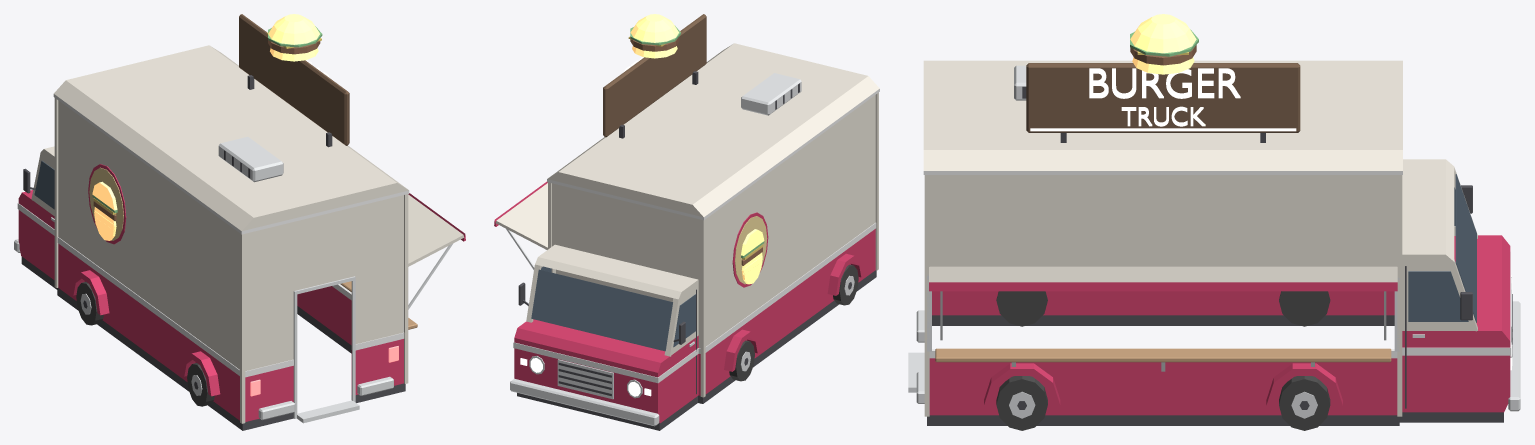
Rendered from food_truck.glb.
3 renders of one model, left to right at view 1: azimuth 30°, elevation 25°; view 2: azimuth 150°, elevation 25°; view 3: azimuth 270°, elevation 25°, orthographic. The views are drawn at different scales.
Visible parts, largest first — view 1: truck_middle_crema, truck_rear_crema, truck_middle_pintura_roja, truck_sign_tablero_letrero, truck_rear_pintura_roja, truck_front_pintura_roja, truck_rear_cromo, truck_middle_blanco, truck_middle_cromo, truck_middle_oscuro, truck_front_crema, truck_sign_pan (+8 smaller); view 2: truck_middle_crema, truck_front_crema, truck_front_pintura_roja, truck_front_vidrio, truck_middle_pintura_roja, truck_sign_tablero_letrero, truck_front_cromo, truck_front_oscuro, truck_front_blanco, truck_middle_blanco, truck_middle_cromo, truck_sign_pan (+7 smaller); view 3: truck_middle_crema, truck_middle_pintura_roja, truck_sign_tablero_letrero, truck_front_pintura_roja, truck_front_crema, truck_middle_oscuro, truck_middle_madera, truck_front_vidrio, truck_sign_luz_letrero, truck_front_llanta, truck_rear_llanta, truck_sign_pan (+9 smaller).
Boxes of the visible parts, bbox=[...] form: truck_middle_crema: bbox=[55, 46, 464, 369]; truck_rear_crema: bbox=[240, 182, 408, 423]; truck_middle_pintura_roja: bbox=[58, 193, 465, 420]; truck_sign_tablero_letrero: bbox=[239, 14, 349, 145]; truck_rear_pintura_roja: bbox=[181, 339, 403, 421]; truck_front_pintura_roja: bbox=[18, 164, 126, 315]; truck_rear_cromo: bbox=[191, 276, 393, 423]; truck_middle_blanco: bbox=[55, 95, 351, 375]; truck_middle_cromo: bbox=[218, 136, 453, 332]; truck_middle_oscuro: bbox=[58, 150, 405, 430]; truck_front_crema: bbox=[31, 45, 220, 287]; truck_sign_pan: bbox=[268, 14, 319, 61]; truck_middle_crema: bbox=[496, 44, 878, 346]; truck_front_crema: bbox=[526, 171, 705, 397]; truck_front_pintura_roja: bbox=[514, 212, 768, 423]; truck_front_vidrio: bbox=[531, 266, 695, 351]; truck_middle_pintura_roja: bbox=[494, 181, 875, 393]; truck_sign_tablero_letrero: bbox=[603, 14, 706, 137]; truck_front_cromo: bbox=[510, 341, 750, 426]; truck_front_oscuro: bbox=[517, 282, 748, 430]; truck_front_blanco: bbox=[513, 179, 704, 383]; truck_middle_blanco: bbox=[705, 89, 878, 352]; truck_middle_cromo: bbox=[506, 73, 801, 269]; truck_sign_pan: bbox=[630, 14, 678, 58]; truck_middle_crema: bbox=[927, 60, 1399, 282]; truck_middle_pintura_roja: bbox=[929, 282, 1397, 415]; truck_sign_tablero_letrero: bbox=[1026, 63, 1300, 132]; truck_front_pintura_roja: bbox=[1266, 235, 1510, 415]; truck_front_crema: bbox=[1396, 60, 1477, 416]; truck_middle_oscuro: bbox=[930, 86, 1396, 425]; truck_middle_madera: bbox=[935, 348, 1391, 362]; truck_front_vidrio: bbox=[1408, 174, 1476, 322]; truck_sign_luz_letrero: bbox=[1030, 68, 1296, 131]; truck_front_llanta: bbox=[1279, 291, 1330, 430]; truck_rear_llanta: bbox=[996, 291, 1047, 430]; truck_sign_pan: bbox=[1130, 14, 1196, 74].
Size of the model in its own units: 4.14 by 5.24 by 7.37.
